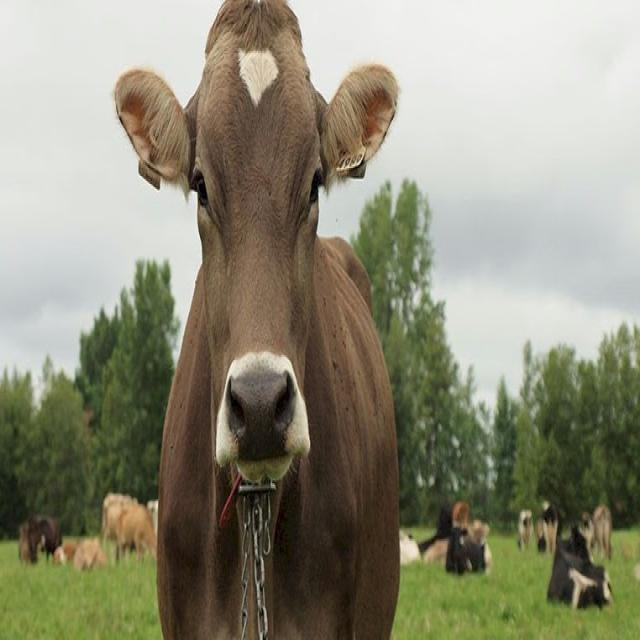cowFace: (99, 5, 402, 498)
